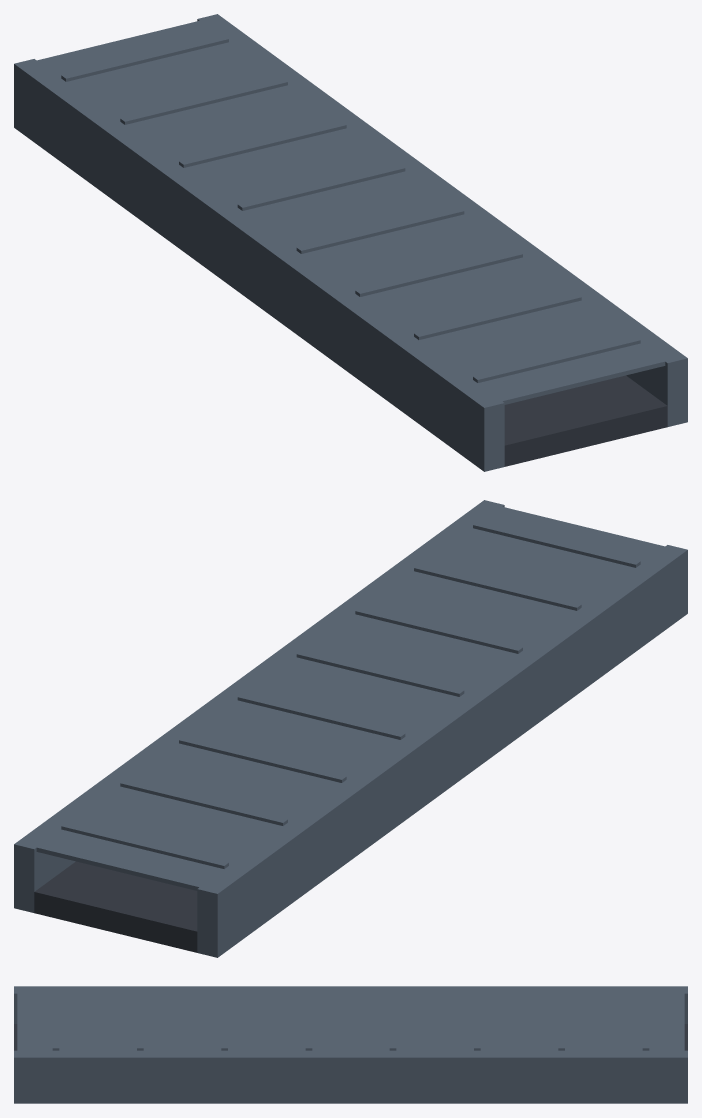
Rendered from Lab_Floor_Grate.fbx.
The picture shows the model from 3 angles, top to bottom: view 1: azimuth 30°, elevation 25°; view 2: azimuth 150°, elevation 25°; view 3: azimuth 270°, elevation 25°; orthographic projection. The views are drawn at different scales.
Parts seen in each view (by area): view 1: Lab_Floor_Grate; view 2: Lab_Floor_Grate; view 3: Lab_Floor_Grate.
Part boxes in pixels (<box>): Lab_Floor_Grate: <box>14,14,687,471</box>; Lab_Floor_Grate: <box>14,500,687,957</box>; Lab_Floor_Grate: <box>14,986,687,1103</box>.
Size of the model in its own units: 1 by 0.315 by 4.
